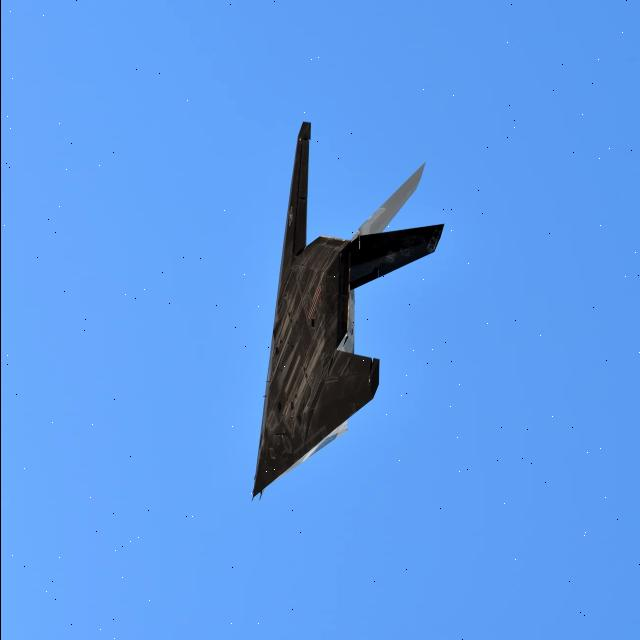F117: (232, 91, 464, 516)
